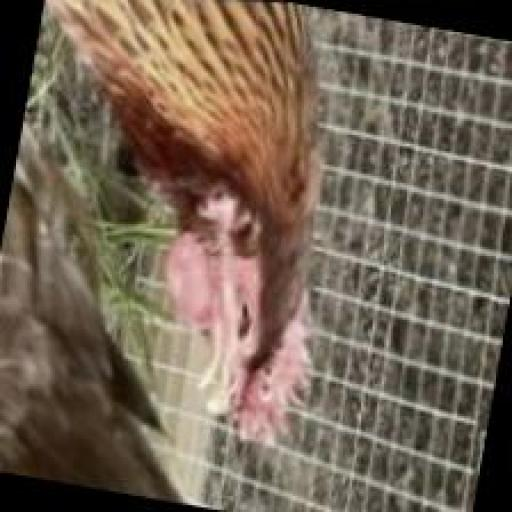disease: (230, 250, 321, 458)
